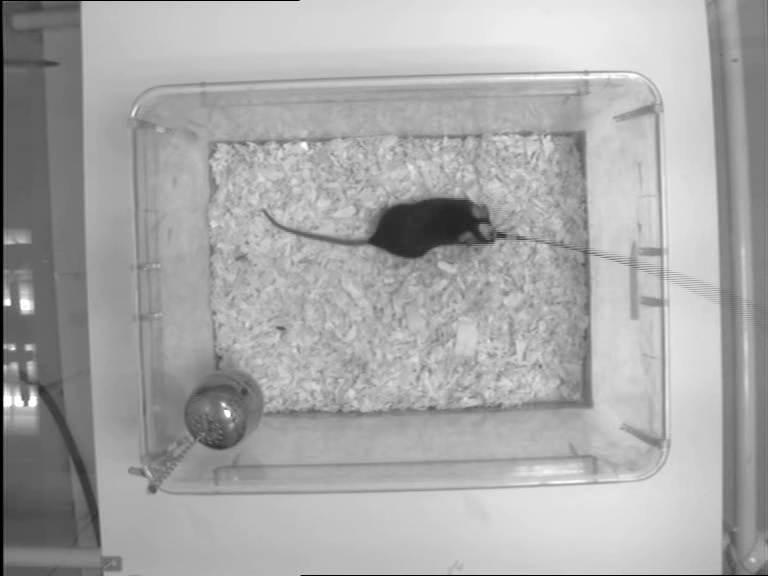mice: (257, 196, 498, 261)
